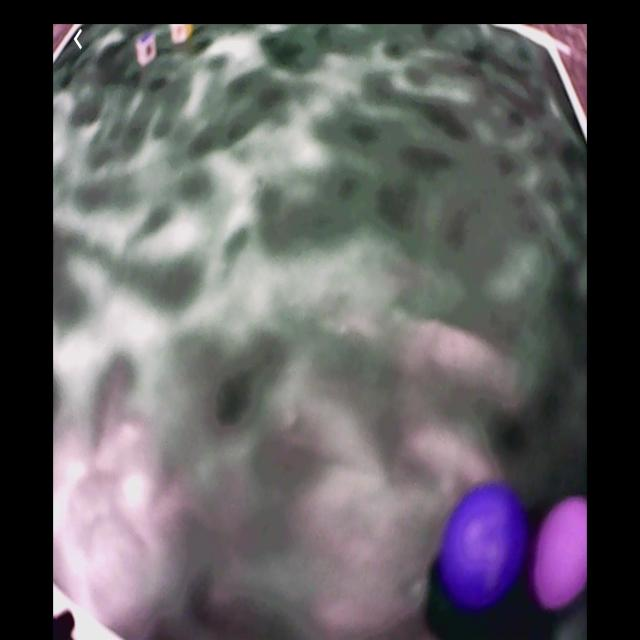ball: (443, 484, 524, 611), (532, 493, 589, 612)
